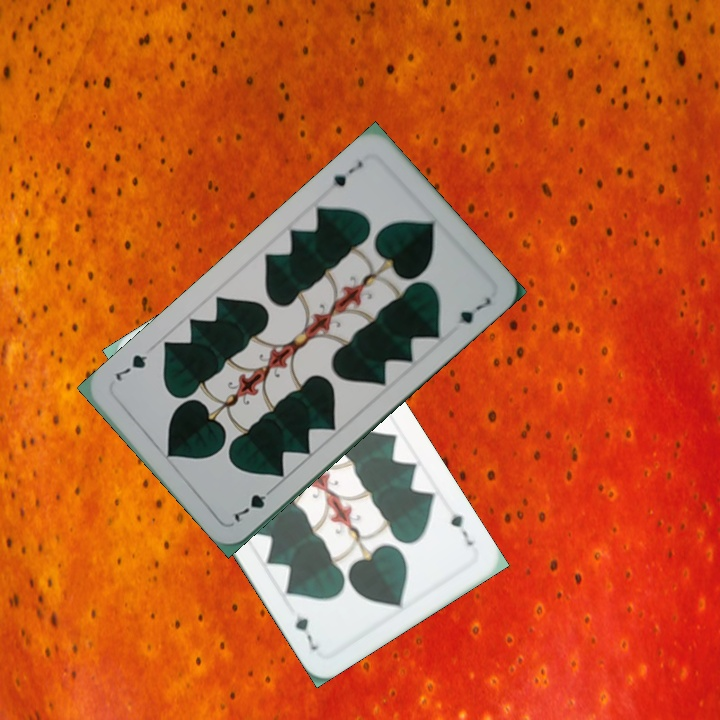G7: (230, 482, 278, 525), (445, 502, 476, 549), (328, 156, 365, 190)
